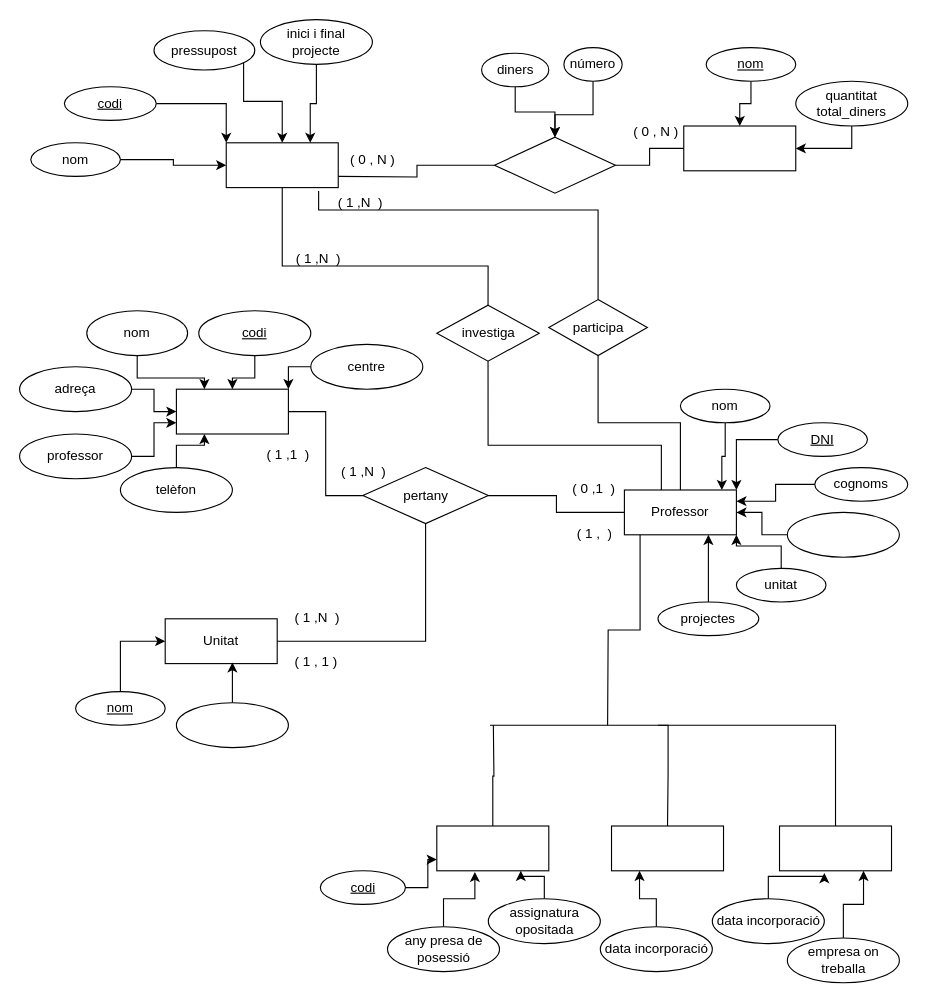
Some shapes in this 927 by 1002 pixel diagram are drawn without their labels. The shapes that lost their labels are listed below. From the top down, each one's centre as x and y in pixels, then its label:
(281,165): Projecte de recerca
(554,164): finança
(739,148): Programa Nacional
(231,411): Departament
(842,534): anys eperiència
(231,725): associat àrea de coneixement
(492,848): Funcionaris
(667,848): Ajudants
(835,848): Associats
